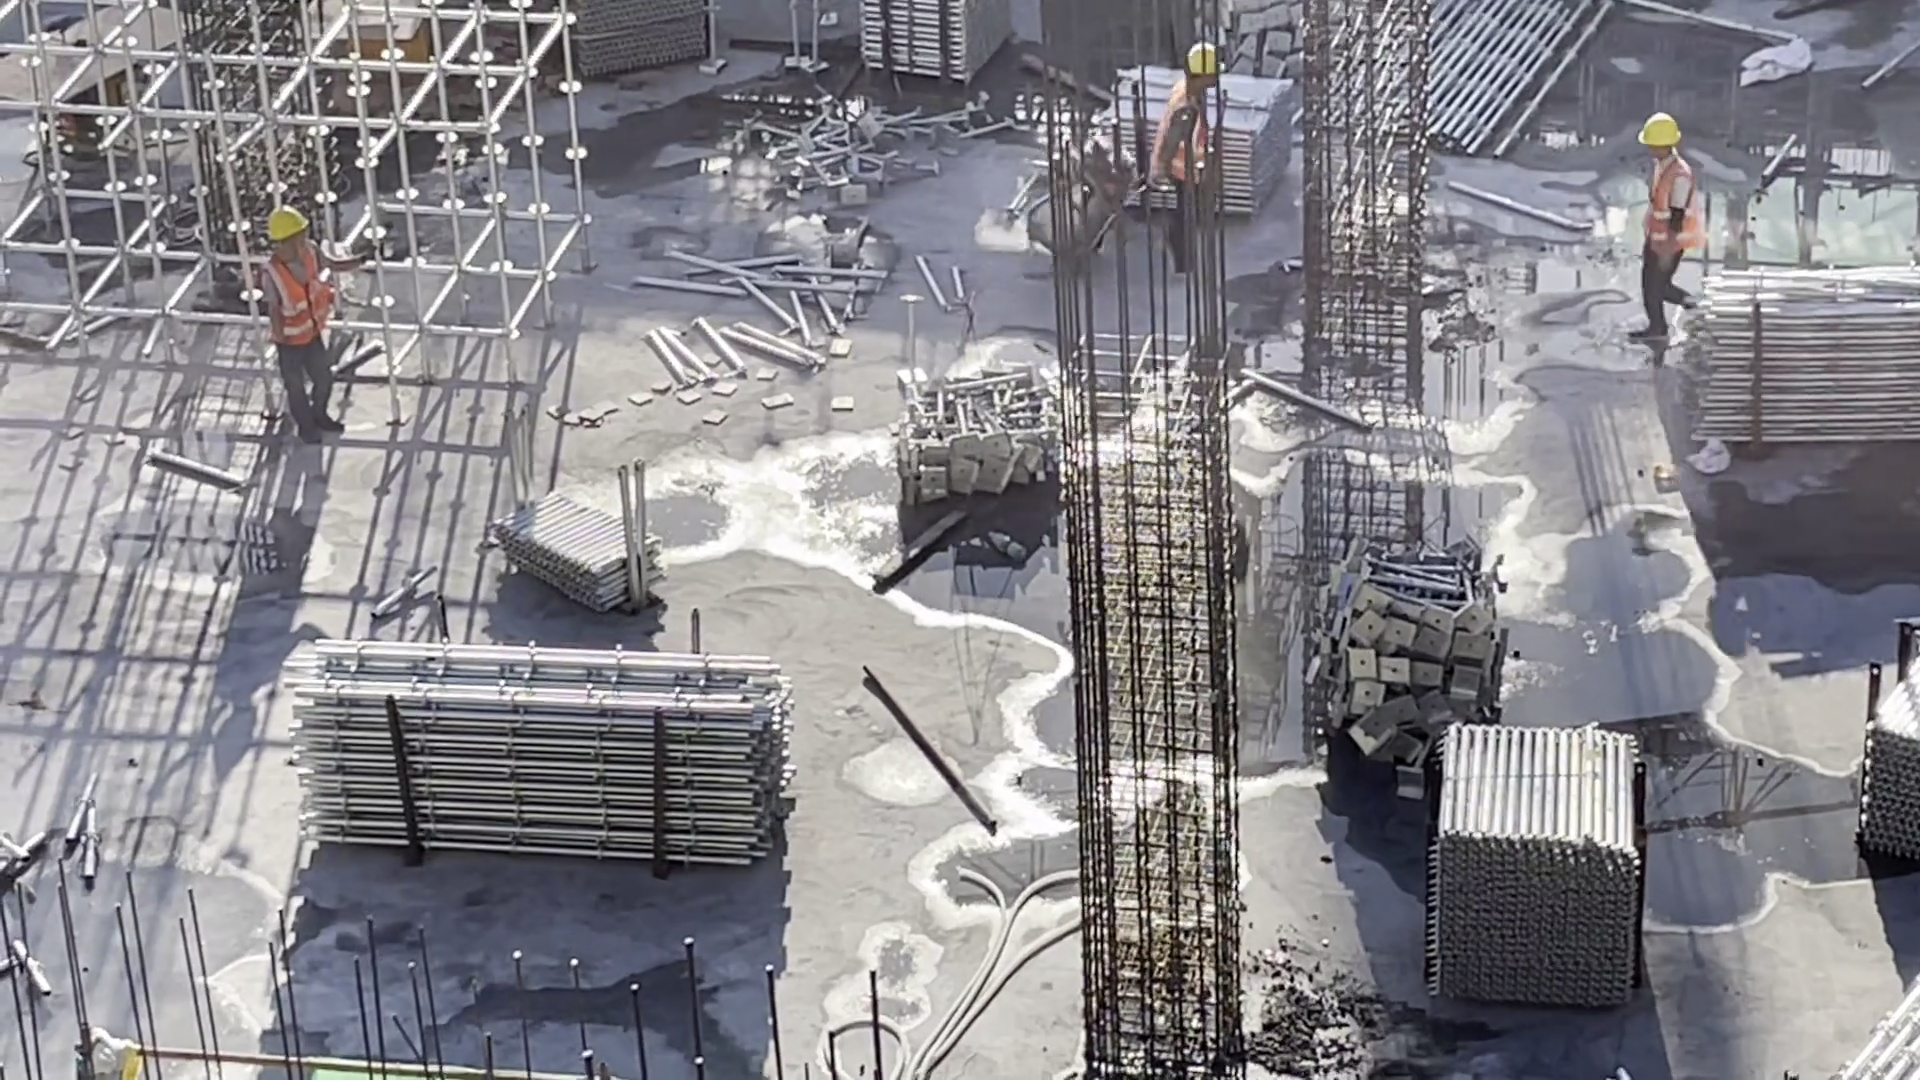cutter: (8, 4, 237, 180), (284, 1, 467, 105)
helmet: (262, 201, 321, 245), (1641, 104, 1678, 156), (1184, 45, 1236, 79)
person: (252, 204, 351, 426), (1630, 104, 1699, 353), (1163, 39, 1230, 263)
scaffold: (271, 633, 776, 876), (1426, 722, 1657, 1020), (1678, 252, 1920, 454), (1369, 1, 1623, 161), (1323, 564, 1509, 781), (1125, 66, 1294, 218), (509, 489, 669, 604), (543, 7, 735, 98), (894, 365, 1033, 490), (861, 1, 1013, 95), (1849, 659, 1920, 852), (1235, 1, 1337, 100), (1830, 968, 1920, 1078), (802, 111, 921, 185)
vest: (1146, 83, 1217, 192), (260, 246, 337, 346), (1646, 159, 1693, 258)
